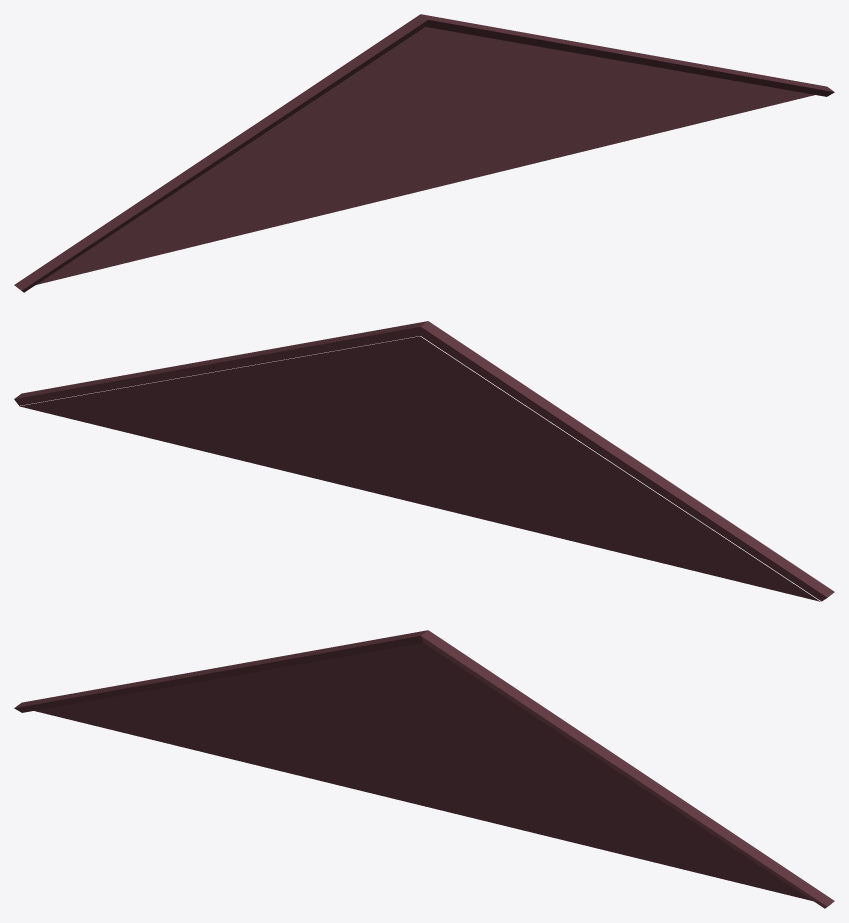
The model's file is empire-wall-vertical-9m-empire.glb.
3 renders of one model, top to bottom at view 1: azimuth 30°, elevation 25°; view 2: azimuth 150°, elevation 25°; view 3: azimuth 330°, elevation 25°, orthographic.
Parts seen in each view (by area): view 1: SM_Wall_Vertical_9m_Empire; view 2: SM_Wall_Vertical_9m_Empire; view 3: SM_Wall_Vertical_9m_Empire.
Part boxes in pixels (x1=…): SM_Wall_Vertical_9m_Empire: x1=14, y1=14, x2=834, y2=292; SM_Wall_Vertical_9m_Empire: x1=14, y1=321, x2=834, y2=601; SM_Wall_Vertical_9m_Empire: x1=14, y1=630, x2=834, y2=908.
Bounding box in the file's own units: 9.13 × 1.9 × 0.1593.
